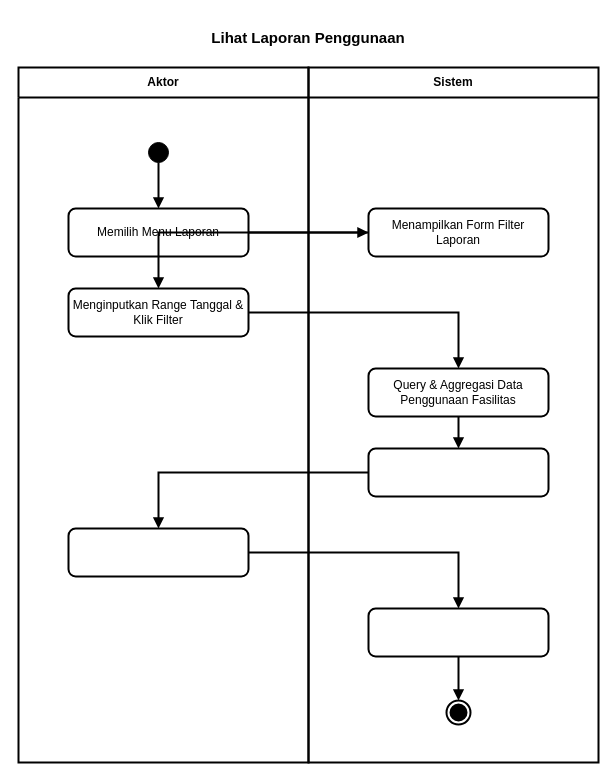
Some shapes in this 616 by 780 pixel diagram are drawn without their labels. The centre of each missing label's shape, as x and y in pixels:
Generate & Download File PDF Laporan: [458,632]
Memilih Aksi Cetak PDF (Opsional): [158,552]
Menampilkan Grafik & Rincian Laporan: [458,472]
